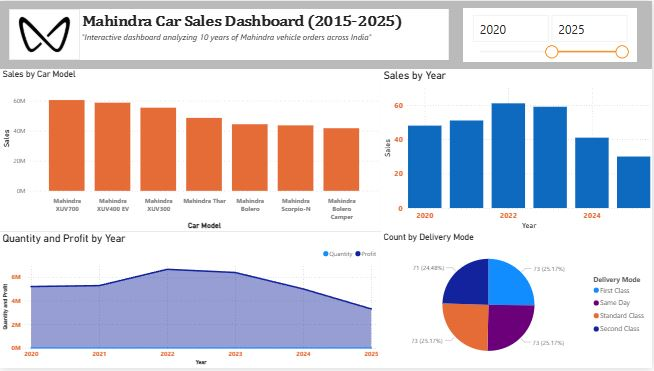

The dashboard page shown, as its layout file describes it:
{"tool":"powerbi","page":{"name":"Page 2","canvas":[1280,720],"ordinal":1},"visuals":[{"type":"areaChart","fields":{"Category":["Mahindra_Car_Orders_10_Years.Order Date.Variation.Date Hierarchy.Year"],"Y":["CountNonNull(Mahindra_Car_Orders_10_Years.Quantity)","Sum(Mahindra_Car_Orders_10_Years.Profit)"]},"box":[0,452.9,747.1,266.7],"z":0},{"type":"columnChart","fields":{"Y":["Sum(Mahindra_Car_Orders_10_Years.Sales)"],"Category":["Mahindra_Car_Orders_10_Years.Product Name"]},"box":[0,133.2,746.9,318.9],"z":1000},{"type":"clusteredColumnChart","fields":{"Category":["Mahindra_Car_Orders_10_Years.Order Date.Variation.Date Hierarchy.Year"],"Y":["CountNonNull(Mahindra_Car_Orders_10_Years.Sales)"]},"box":[747.1,133.3,533.3,319.6],"z":2000},{"type":"image","box":[28.4,14.9,111.9,101.5],"z":3000},{"type":"textbox","box":[155.2,16.4,725.4,100],"z":4000,"group":"g1"},{"type":"slicer","title":"Year","fields":{"Values":["Mahindra_Car_Orders_10_Years.Order Date.Variation.Date Hierarchy.Year"]},"box":[907.8,13.7,341.2,103.9],"z":5000},{"type":"pieChart","fields":{"Y":["CountNonNull(Mahindra_Car_Orders_10_Years.Delivery Mode )"],"Category":["Mahindra_Car_Orders_10_Years.Delivery Mode "]},"box":[747.1,452.9,533.3,266.7],"z":6000},{"type":"image","box":[17.6,15.7,139.2,100],"z":6001,"group":"g1"},{"type":"group","id":"g1","title":"Group 1","box":[17.6,15.7,862.9,100.7],"z":6002}]}

Visuals, with their boxes in screenshot pixels (x1, y1, x2, y2), scaled from the page's 1280x720 canvas onto the 654x371 screenshot:
areaChart - Mahindra_Car_Orders_10_Years.Order Date.Variation.Date Hierarchy.Year x CountNonNull(Mahindra_Car_Orders_10_Years.Quantity): (left=0, top=233, right=382, bottom=370)
columnChart - Sum(Mahindra_Car_Orders_10_Years.Sales) x Mahindra_Car_Orders_10_Years.Product Name: (left=0, top=69, right=382, bottom=233)
clusteredColumnChart - Mahindra_Car_Orders_10_Years.Order Date.Variation.Date Hierarchy.Year x CountNonNull(Mahindra_Car_Orders_10_Years.Sales): (left=382, top=69, right=653, bottom=233)
image: (left=15, top=8, right=72, bottom=60)
textbox: (left=79, top=8, right=450, bottom=60)
"Year" slicer: (left=464, top=7, right=638, bottom=61)
pieChart - CountNonNull(Mahindra_Car_Orders_10_Years.Delivery Mode ) x Mahindra_Car_Orders_10_Years.Delivery Mode : (left=382, top=233, right=653, bottom=370)
image: (left=9, top=8, right=80, bottom=60)
"Group 1" group: (left=9, top=8, right=450, bottom=60)
